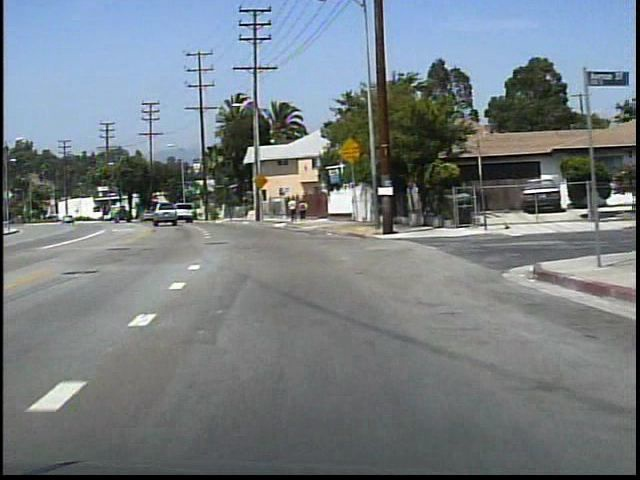person: (288, 196, 299, 223), (298, 198, 309, 222)
